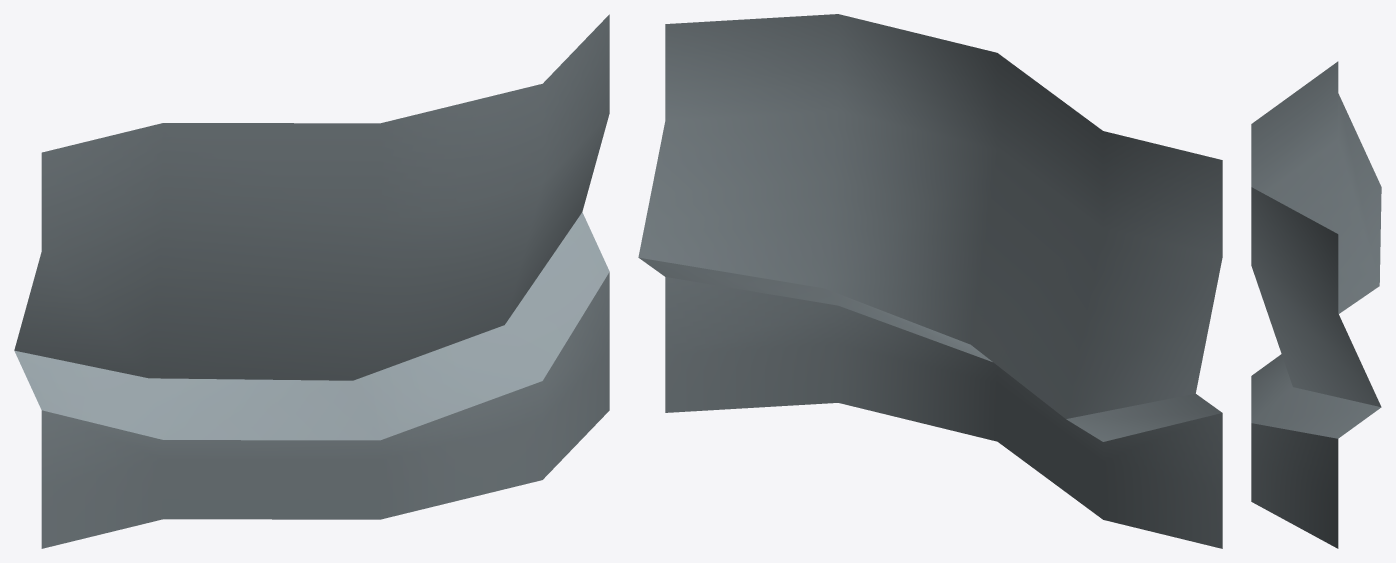
File: Hill_Cliff_H_Side_Color1.gltf
3 renders of one model, left to right at view 1: azimuth 30°, elevation 25°; view 2: azimuth 150°, elevation 25°; view 3: azimuth 270°, elevation 25°, orthographic. The views are drawn at different scales.
Parts seen in each view (by area): view 1: Hill_Cliff_H_Side_Color1; view 2: Hill_Cliff_H_Side_Color1; view 3: Hill_Cliff_H_Side_Color1.
Part boxes in pixels (<box>): Hill_Cliff_H_Side_Color1: <box>14,14,609,548</box>; Hill_Cliff_H_Side_Color1: <box>638,14,1222,548</box>; Hill_Cliff_H_Side_Color1: <box>1251,61,1381,548</box>.
Bounding box in the file's own units: 3 × 2 × 0.75.
1 material, 1 textured.
